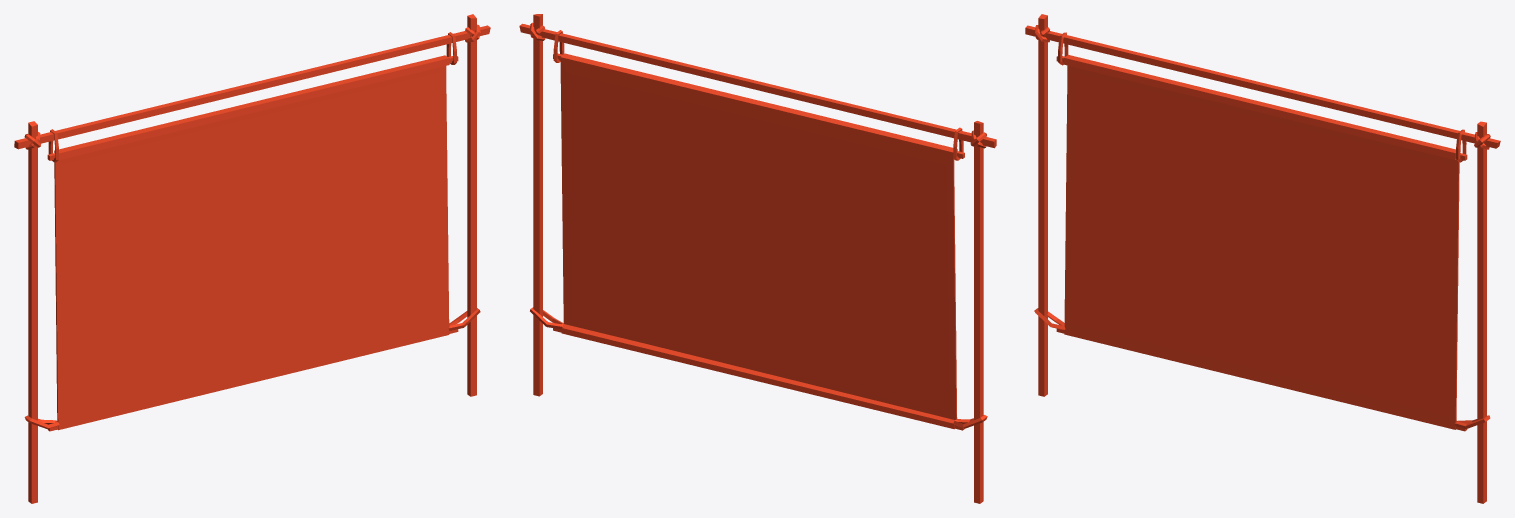
Rendered from SM_Canvas_Cinema_City.fbx.
3 renders of one model, left to right at view 1: azimuth 30°, elevation 25°; view 2: azimuth 150°, elevation 25°; view 3: azimuth 330°, elevation 25°, orthographic.
Visible parts, largest first — view 1: SM_Canvas_Cinema_City; view 2: SM_Canvas_Cinema_City; view 3: SM_Canvas_Cinema_City.
Part boxes in pixels (<box>): SM_Canvas_Cinema_City: <box>14,14,490,503</box>; SM_Canvas_Cinema_City: <box>519,14,996,503</box>; SM_Canvas_Cinema_City: <box>1025,14,1500,503</box>.
Size of the model in its own units: 3.96 by 3.03 by 0.1319.
